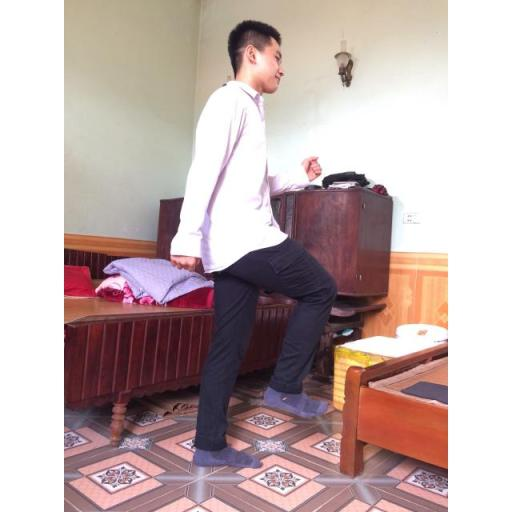Running: (166, 16, 348, 470)
